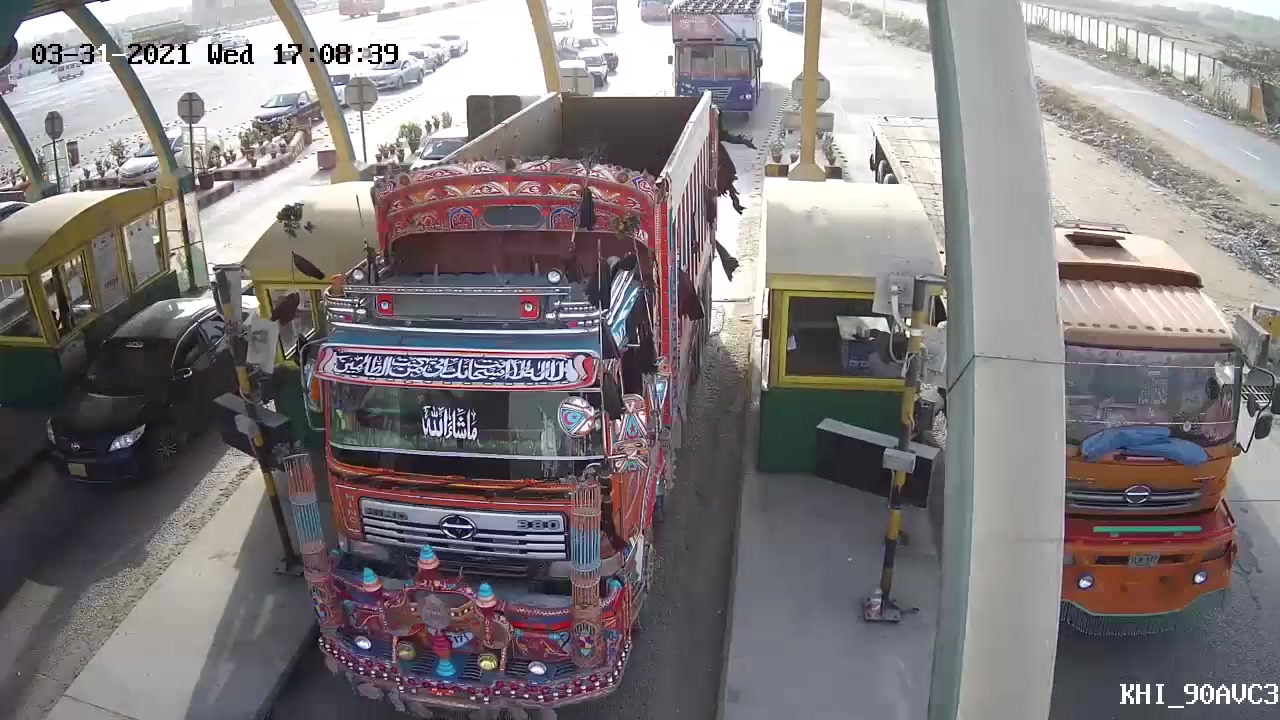F5: (252, 88, 730, 711)
